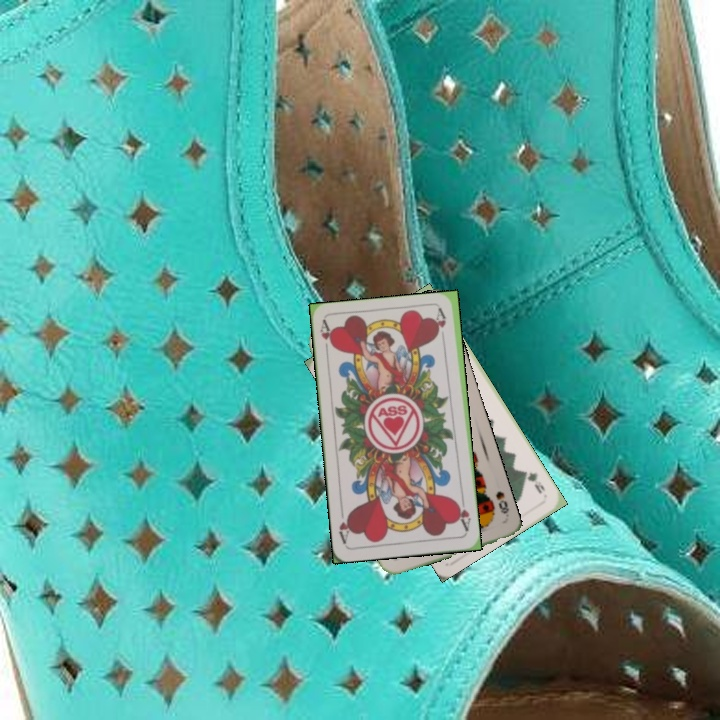G9: (519, 466, 548, 496)
HA: (452, 494, 473, 534), (316, 317, 336, 358)
S8: (492, 487, 512, 519)
